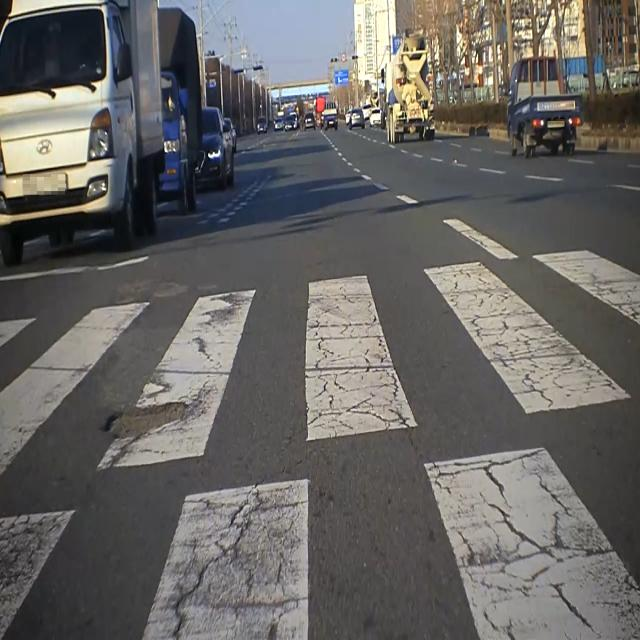Pothole: (93, 386, 200, 448)
